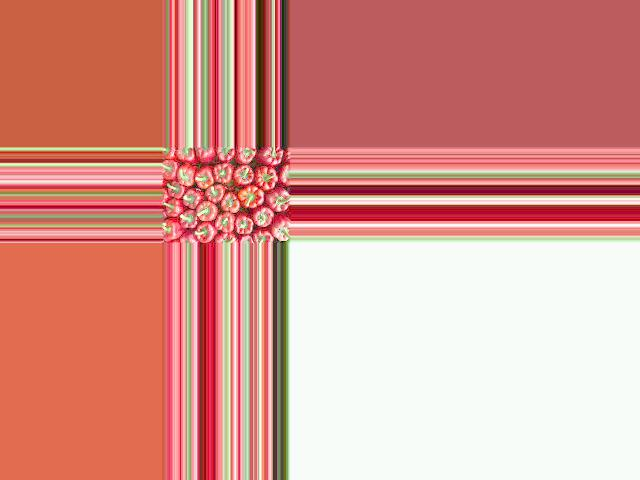bell_pepper: (163, 221, 183, 241)
